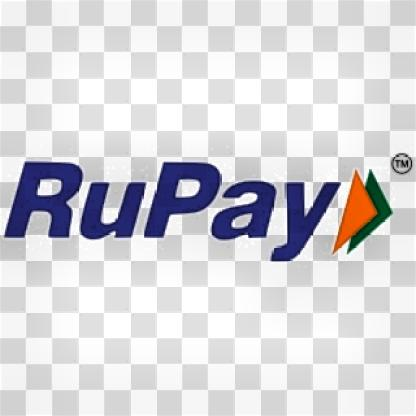Rupay: (1, 159, 395, 261)
